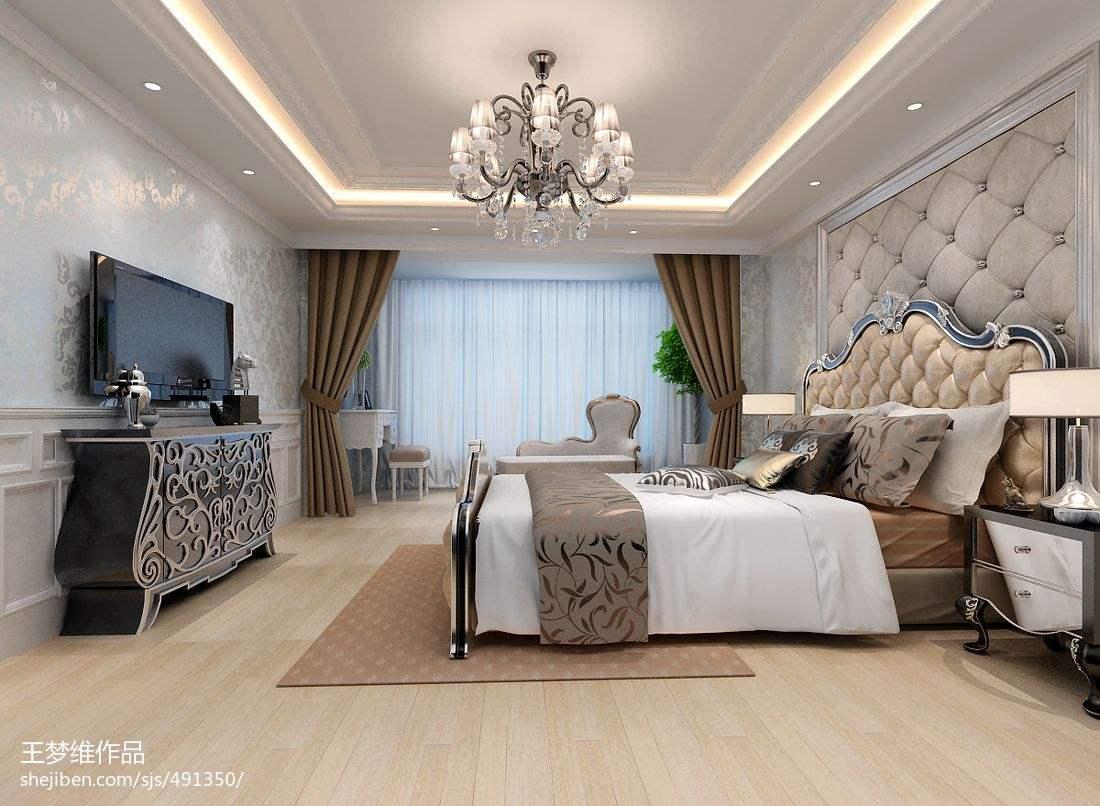床: (466, 451, 1015, 645)
枕头: (750, 408, 998, 515), (638, 457, 753, 504)
灯: (442, 48, 638, 255), (998, 360, 1099, 520), (735, 385, 795, 449), (131, 78, 160, 97), (229, 165, 256, 184), (901, 98, 923, 118), (808, 178, 825, 192), (624, 225, 638, 240), (424, 223, 438, 236)
